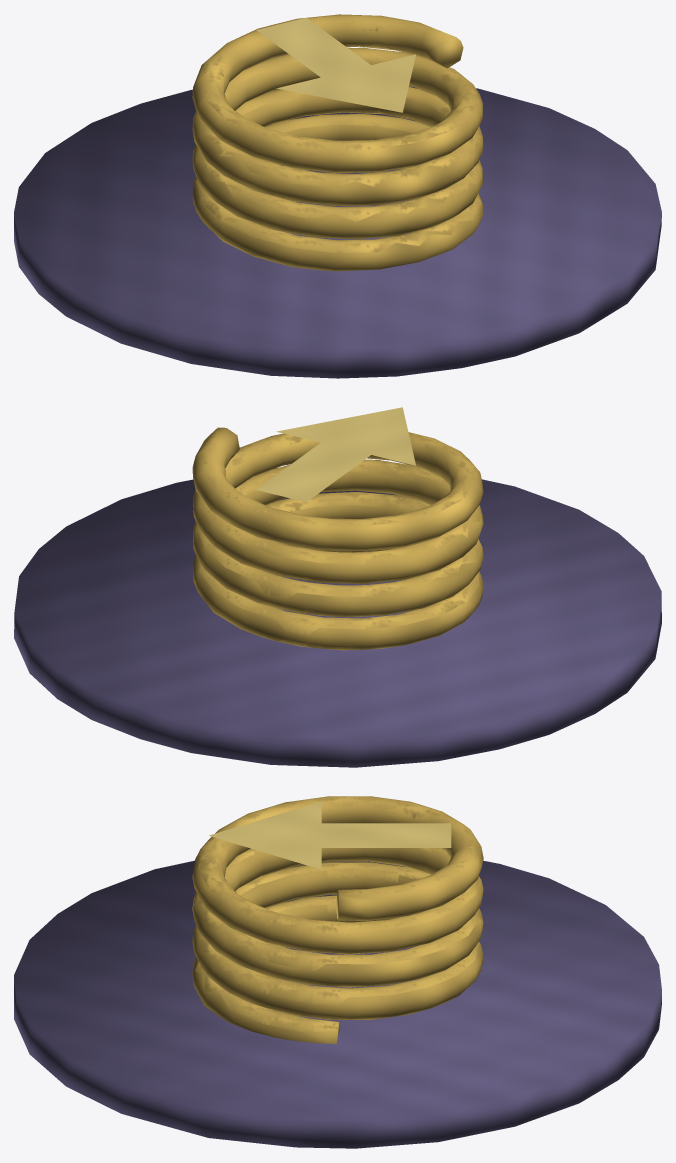
File: spring_pad.glb
3 renders of one model, top to bottom at view 1: azimuth 30°, elevation 25°; view 2: azimuth 150°, elevation 25°; view 3: azimuth 270°, elevation 25°, orthographic.
Parts seen in each view (by area): view 1: pad_base, spring, arrow; view 2: pad_base, spring, arrow; view 3: pad_base, spring, arrow.
Part boxes in pixels (<box>): pad_base: <box>14,86,661,378</box>; spring: <box>192,14,483,271</box>; arrow: <box>256,18,415,112</box>; pad_base: <box>14,467,661,767</box>; spring: <box>192,427,483,650</box>; arrow: <box>256,407,415,502</box>; pad_base: <box>14,860,661,1148</box>; spring: <box>192,796,483,1043</box>; arrow: <box>209,801,451,869</box>.
Size of the model in its own units: 4 by 1.2 by 4.
Materials: 1 (1 with a texture image).
